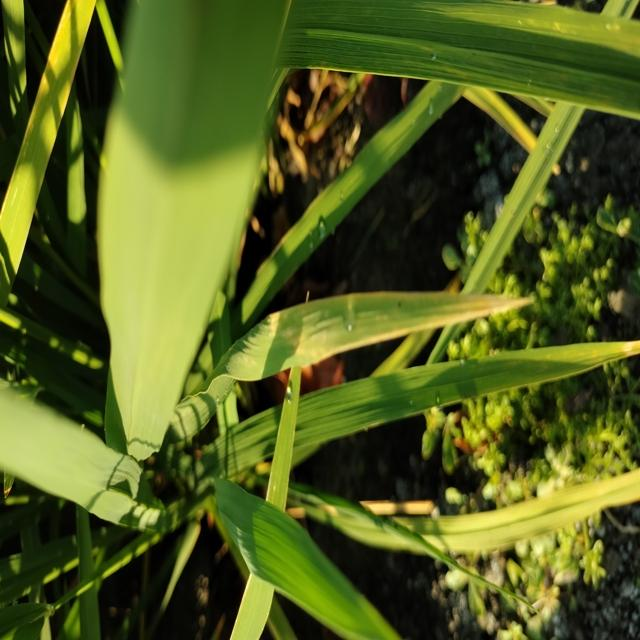healthy: (430, 277, 541, 337)
